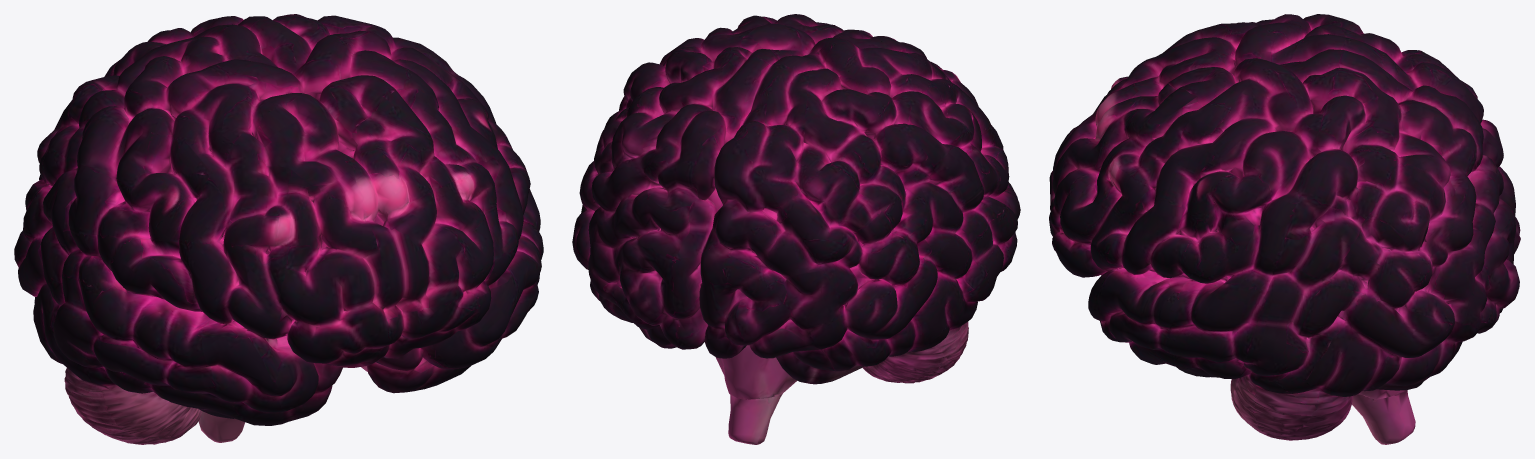
File: brain-neural.glb
The picture shows the model from 3 angles, left to right: view 1: azimuth 30°, elevation 25°; view 2: azimuth 150°, elevation 25°; view 3: azimuth 270°, elevation 25°; orthographic projection. The views are drawn at different scales.
Parts seen in each view (by area): view 1: mesh_node; view 2: mesh_node; view 3: mesh_node.
Boxes of the visible parts, <box> form: mesh_node: <box>14,14,543,444</box>; mesh_node: <box>572,14,1020,444</box>; mesh_node: <box>1049,14,1520,444</box>.
Bounding box in the file's own units: 2 × 1.83 × 1.97.
Materials: 1 (1 with a texture image).
